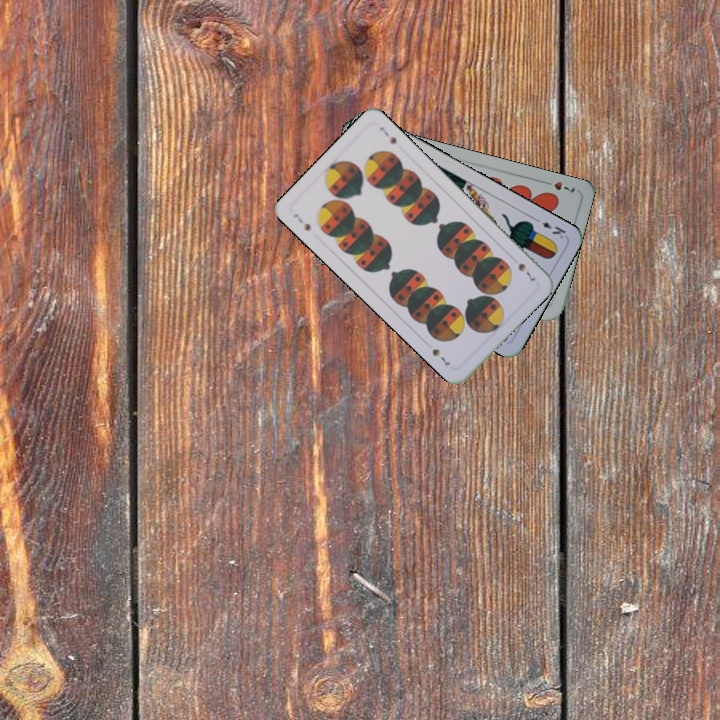EK: (530, 213, 569, 241)
H7: (539, 177, 578, 195)
S7: (514, 259, 538, 284), (289, 210, 313, 233)
